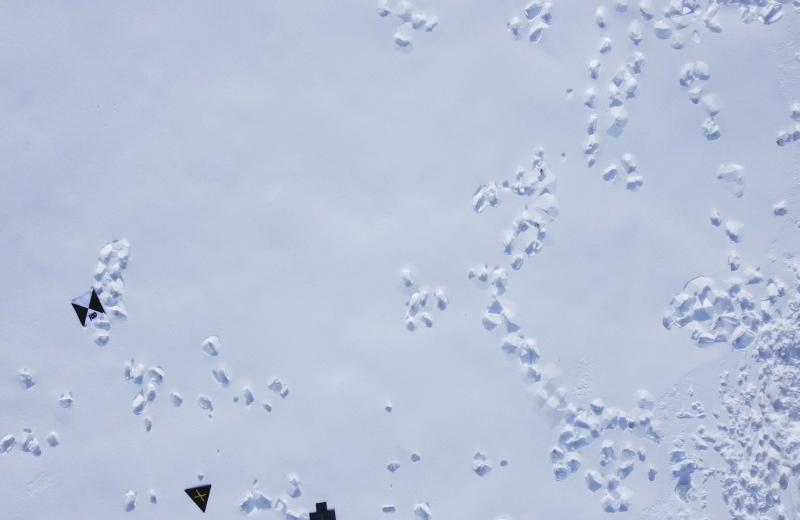Cross: (305, 492, 341, 520)
Triangle: (183, 482, 218, 518)
